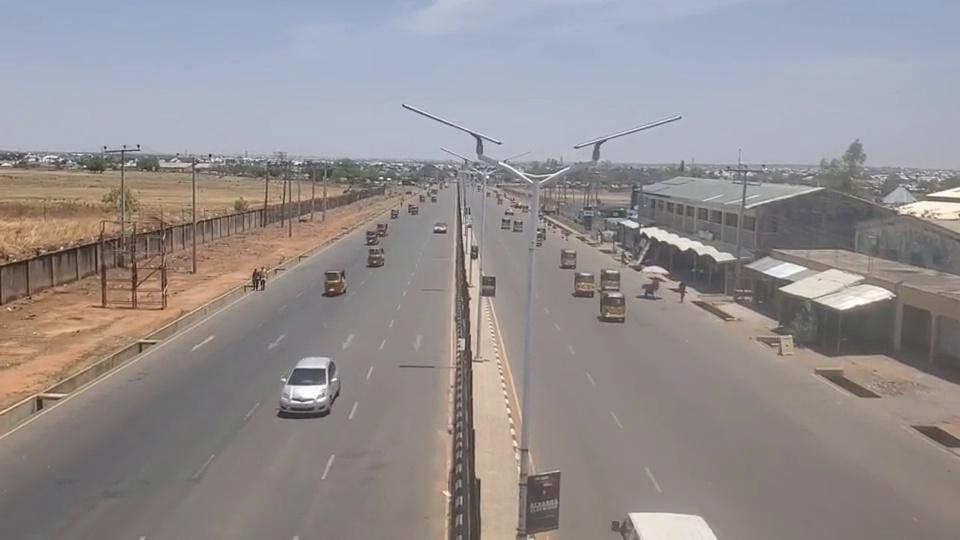bus: (614, 508, 723, 539)
car: (280, 356, 341, 415)
keke: (598, 288, 625, 321), (322, 268, 346, 295), (573, 271, 595, 297), (600, 268, 621, 292), (367, 247, 385, 267), (560, 248, 577, 268)
